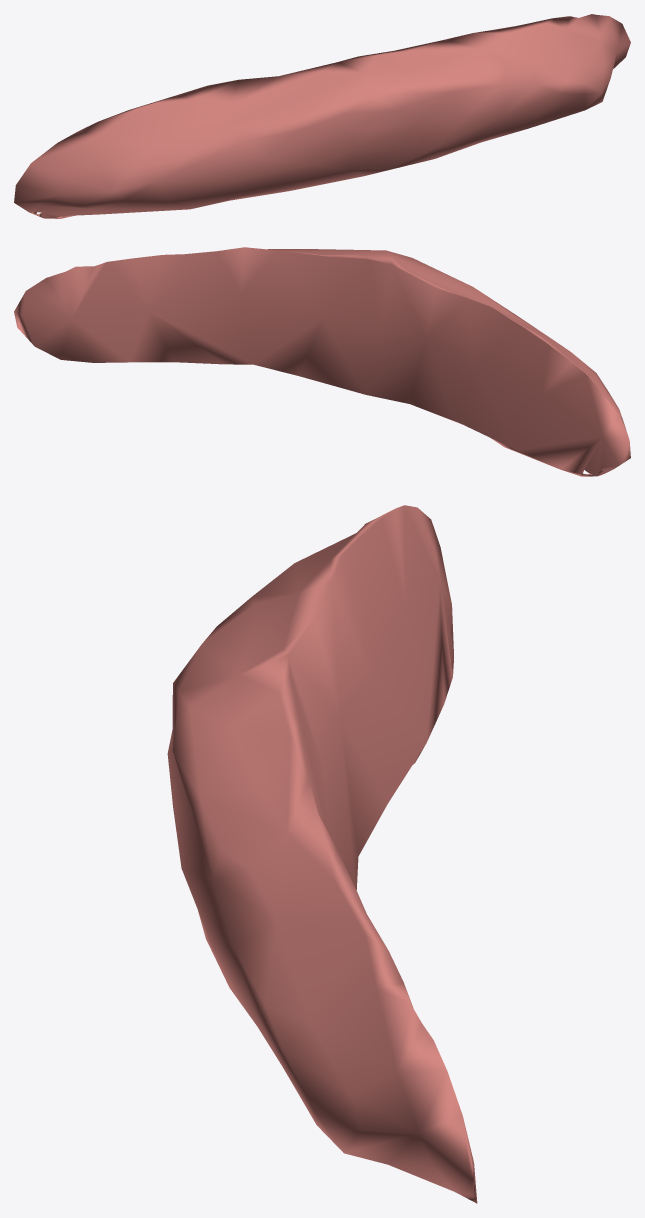
The model's file is fma46847_mm1102.glb.
3 renders of one model, top to bottom at view 1: azimuth 30°, elevation 25°; view 2: azimuth 150°, elevation 25°; view 3: azimuth 270°, elevation 25°, orthographic. The views are drawn at different scales.
Parts seen in each view (by area): view 1: FMA46847_MM1102; view 2: FMA46847_MM1102; view 3: FMA46847_MM1102.
Part boxes in pixels (box(x1,y1,x2,y2)): FMA46847_MM1102: box(14, 14, 630, 218); FMA46847_MM1102: box(14, 247, 630, 476); FMA46847_MM1102: box(167, 505, 477, 1203).
Bounding box in the file's own units: 0.0292 × 0.00598 × 0.00641.
